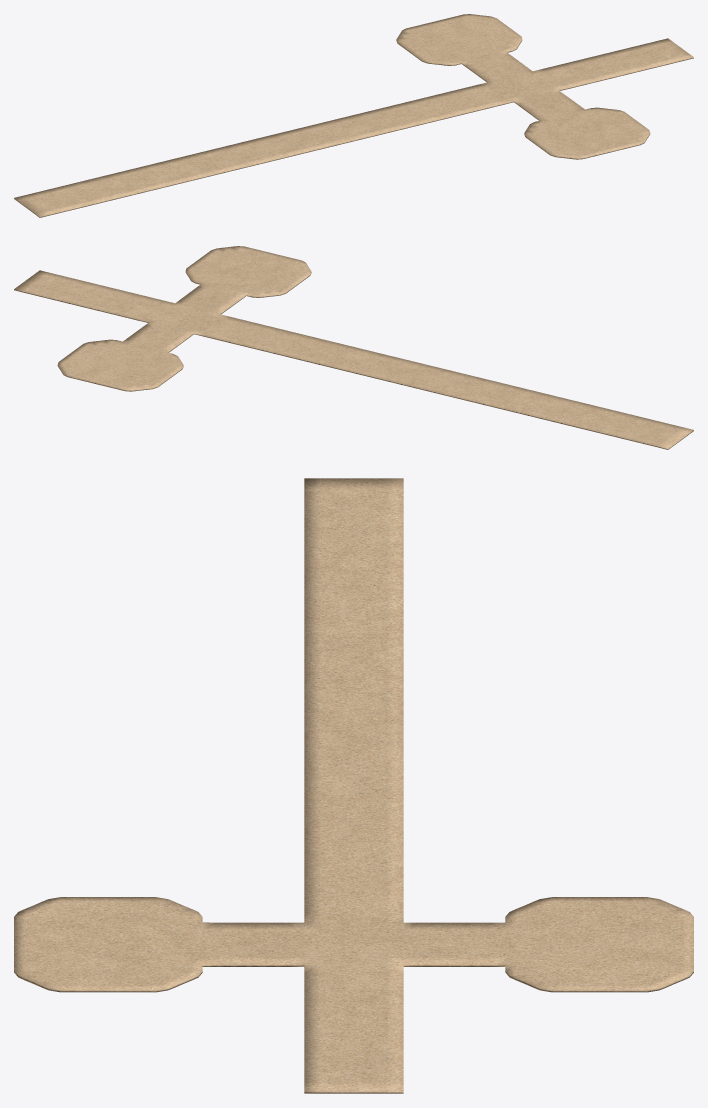
Rendered from SueloCamino.fbx.
3 views of the same model, one above another, from view 1: azimuth 30°, elevation 25°; view 2: azimuth 150°, elevation 25°; view 3: azimuth 270°, elevation 25° (orthographic). The views are drawn at different scales.
Parts seen in each view (by area): view 1: Camino; view 2: Camino; view 3: Camino.
Boxes of the visible parts, x1,y1,x2,y2 form: Camino: (14, 14, 693, 217); Camino: (14, 246, 693, 449); Camino: (14, 478, 693, 1093).
Size of the model in its own units: 26100 by 44.88 by 12231.
